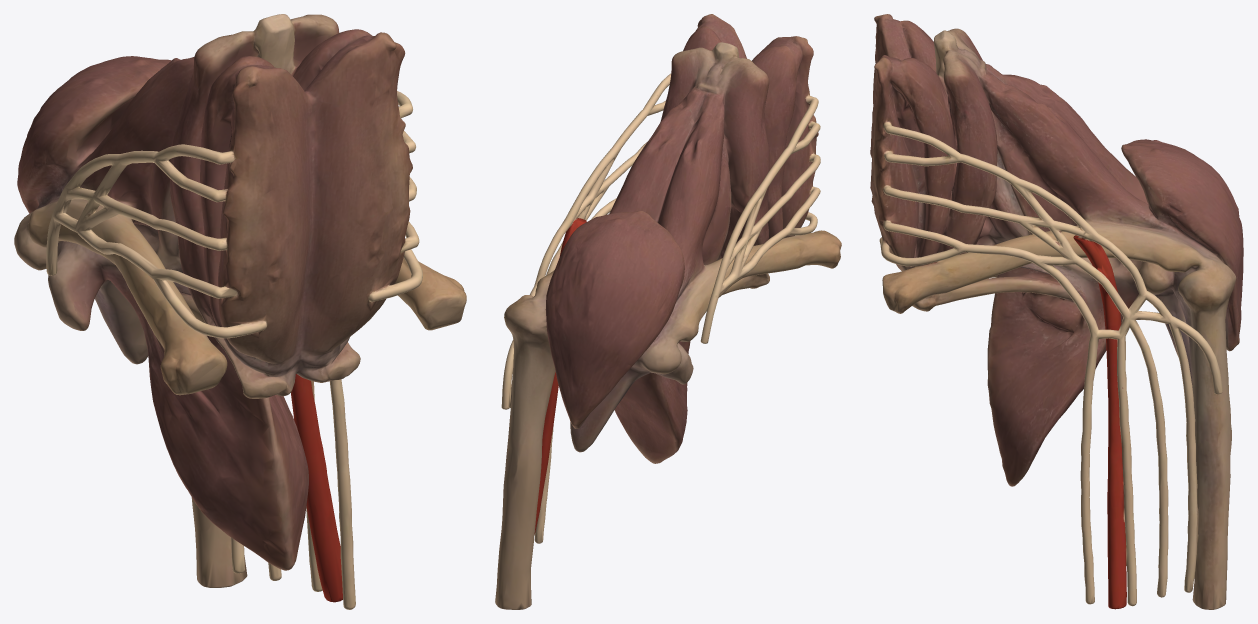
File: brachial-plexus.glb
3 views of the same model, side by side, from view 1: azimuth 30°, elevation 25°; view 2: azimuth 150°, elevation 25°; view 3: azimuth 270°, elevation 25° (orthographic). The views are drawn at different scales.
Visible parts, largest first — view 1: tripo_node_eaf612e2-8352-4daf-8a01-3cf7bf99f78f; view 2: tripo_node_eaf612e2-8352-4daf-8a01-3cf7bf99f78f; view 3: tripo_node_eaf612e2-8352-4daf-8a01-3cf7bf99f78f.
Part boxes in pixels (x1=…): tripo_node_eaf612e2-8352-4daf-8a01-3cf7bf99f78f: x1=14, y1=14, x2=466, y2=609; tripo_node_eaf612e2-8352-4daf-8a01-3cf7bf99f78f: x1=495, y1=14, x2=841, y2=609; tripo_node_eaf612e2-8352-4daf-8a01-3cf7bf99f78f: x1=870, y1=14, x2=1243, y2=609.
Size of the model in its own units: 0.4769 by 0.9995 by 0.6465.
Materials: 1 (1 with a texture image).
